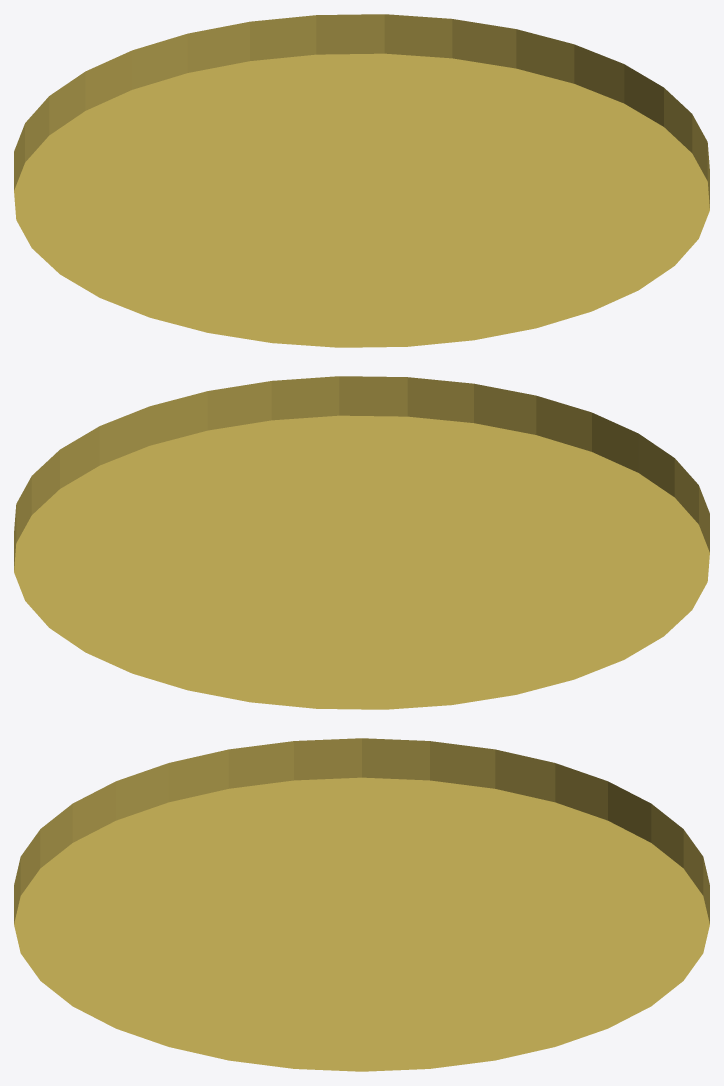
Rendered from 3d-elementary-coin-gold-20260125.glb.
3 renders of one model, top to bottom at view 1: azimuth 30°, elevation 25°; view 2: azimuth 150°, elevation 25°; view 3: azimuth 270°, elevation 25°, orthographic.
Visible parts, largest first — view 1: Coin; view 2: Coin; view 3: Coin.
Part boxes in pixels (bbox=[...]): Coin: bbox=[14, 14, 709, 347]; Coin: bbox=[14, 376, 709, 709]; Coin: bbox=[14, 738, 709, 1071].
Size of the model in its own units: 1.6 by 0.1 by 1.6.
